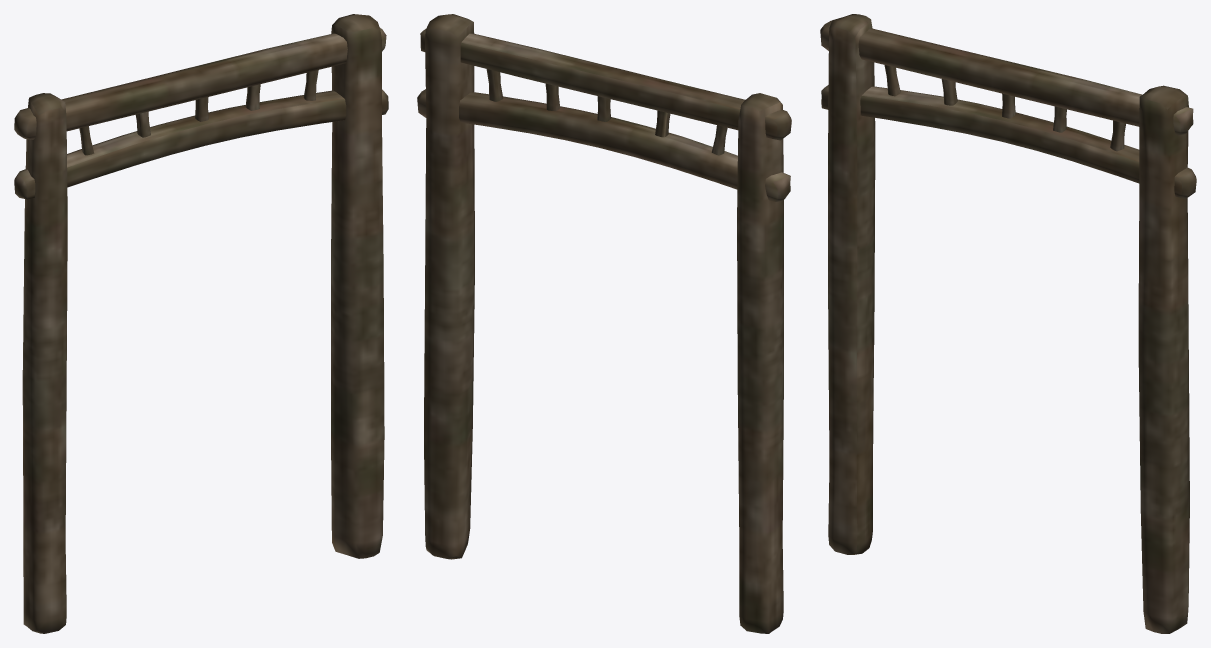
File: t0_fencegate_crude_wooden.glb
The picture shows the model from 3 angles, left to right: view 1: azimuth 30°, elevation 25°; view 2: azimuth 150°, elevation 25°; view 3: azimuth 330°, elevation 25°; orthographic projection.
Visible parts, largest first — view 1: global_props_wall_town_grasland_gate_01_a; view 2: global_props_wall_town_grasland_gate_01_a; view 3: global_props_wall_town_grasland_gate_01_a.
Boxes of the visible parts, x1,y1,x2,y2 form: global_props_wall_town_grasland_gate_01_a: [14, 14, 388, 633]; global_props_wall_town_grasland_gate_01_a: [417, 14, 791, 633]; global_props_wall_town_grasland_gate_01_a: [820, 14, 1196, 633].
Size of the model in its own units: 5.36 by 7.39 by 0.5831.
Materials: 1 (1 with a texture image).
